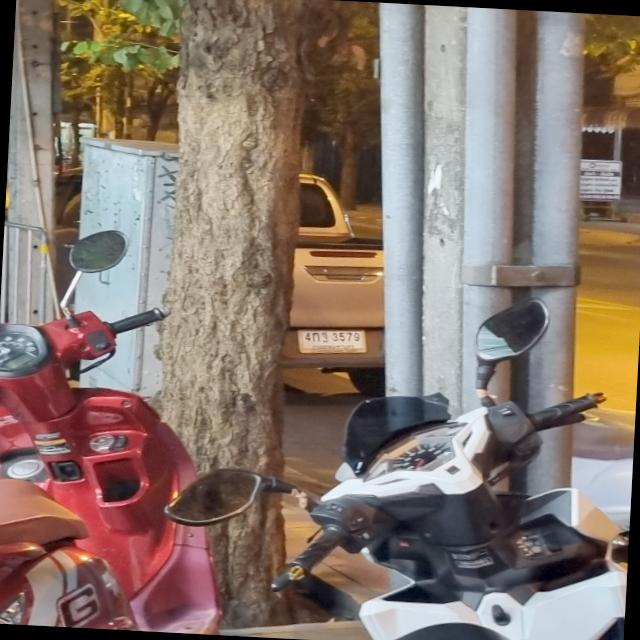license_plate: (294, 326, 372, 362)
